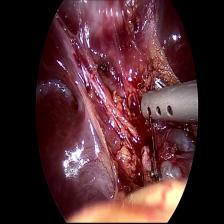Irrigator: (140, 78, 192, 128)
